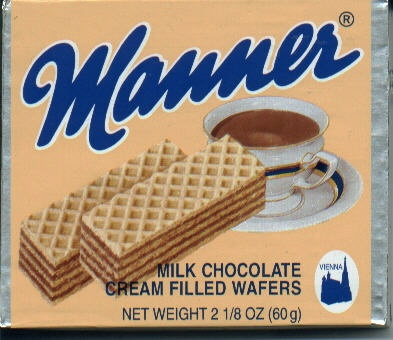grozi_69: (0, 0, 393, 339)
